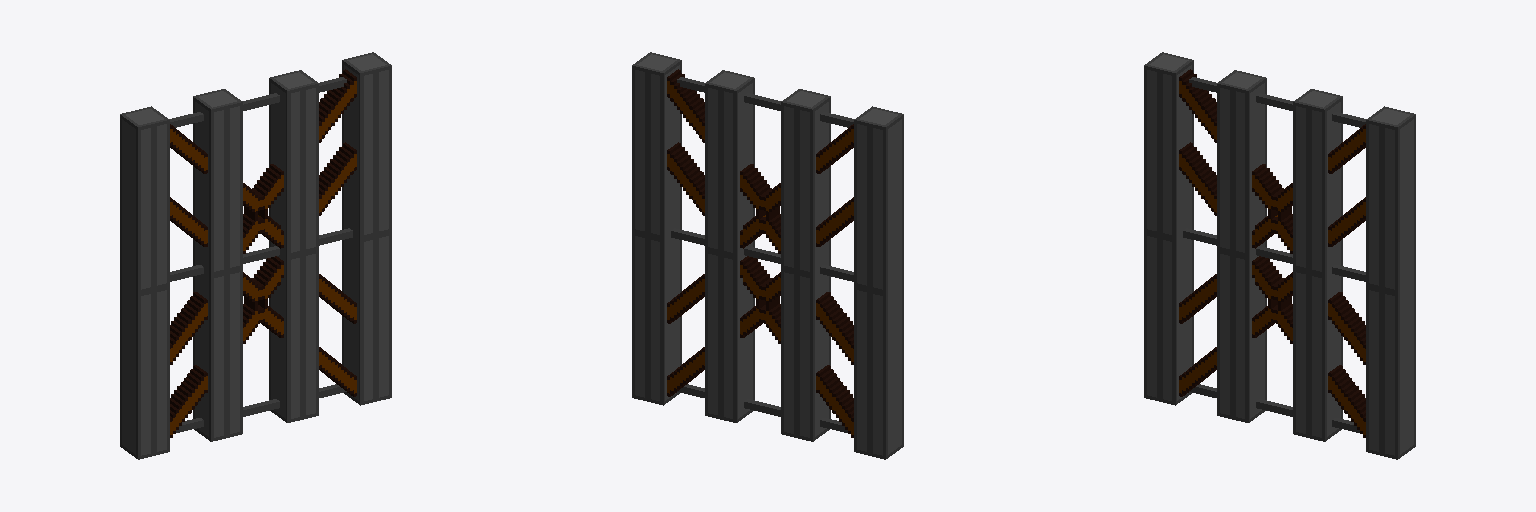
3 views of the same model, side by side, from view 1: azimuth 30°, elevation 25°; view 2: azimuth 150°, elevation 25°; view 3: azimuth 330°, elevation 25° (orthographic).
Parts seen in each view (by area): view 1: object 1; view 2: object 1; view 3: object 1.
Boxes of the visible parts, <box> form: object 1: <box>120,52,391,459</box>; object 1: <box>632,52,903,459</box>; object 1: <box>1144,52,1415,459</box>.
Bounding box in the file's own units: 8 × 10 × 1.
1 materials, 1 textured.